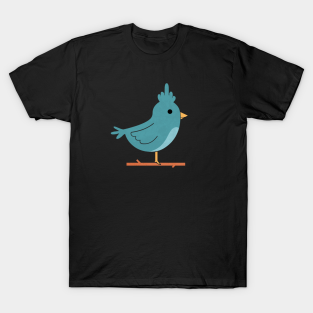design: (109, 81, 189, 168)
